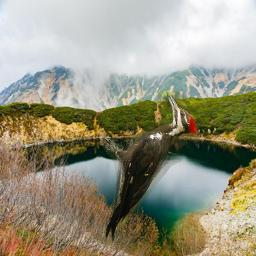Woodpecker: (96, 91, 199, 243)
